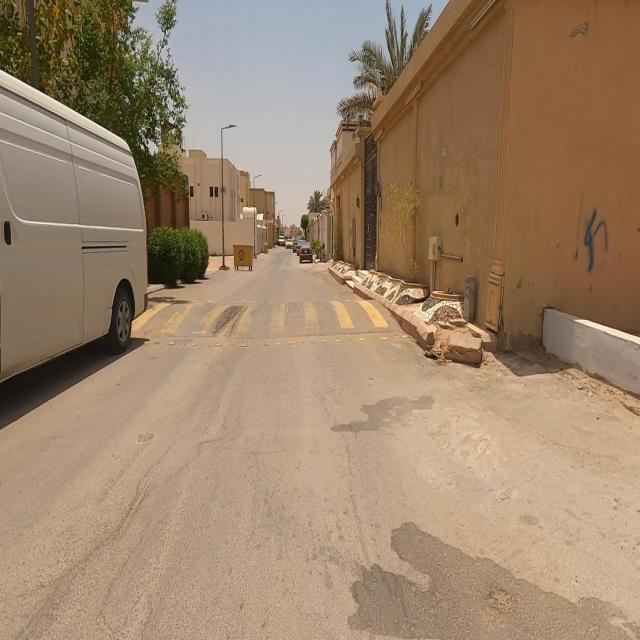Graffiti: (576, 189, 610, 273)
